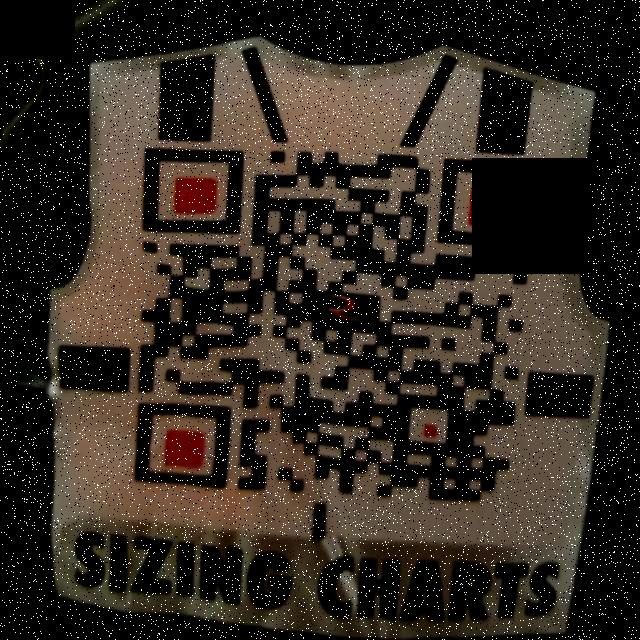QR_CODE: (112, 133, 546, 516)
